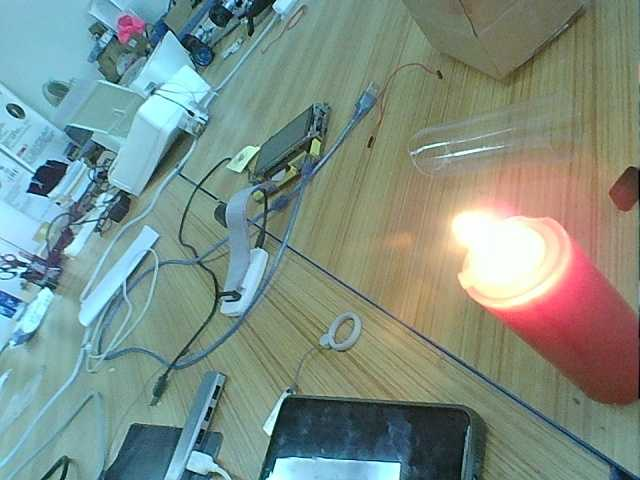candle: (515, 245, 639, 407)
fire: (450, 204, 552, 299)
